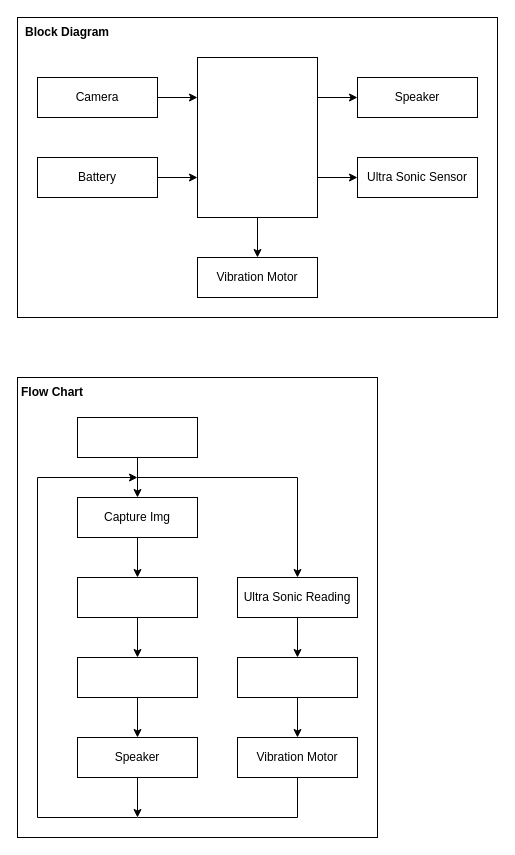
Image size: 515x855. Some labels were removed from this diagram. Each missing label, with the centre of its shape:
Image Data: the point at 137,677
Obstacle Detection: the point at 297,677
Raspberry Pi: the point at 257,137
Start: the point at 137,437
Vission API: the point at 137,597
